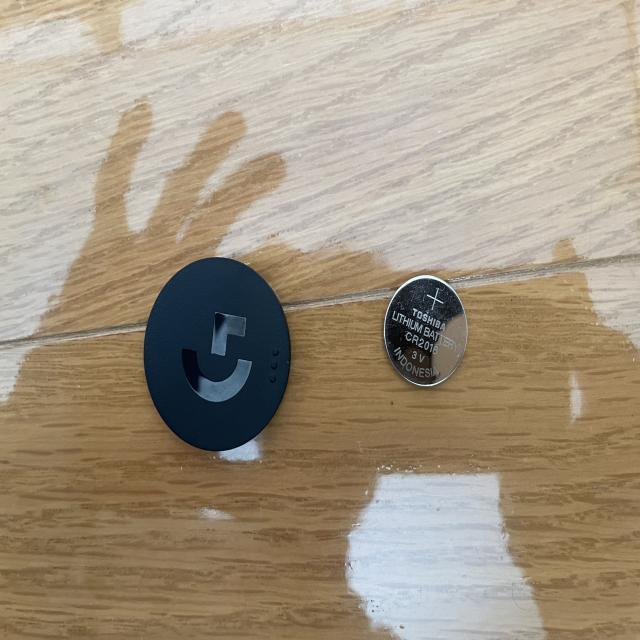COIN: (382, 273, 468, 388)
